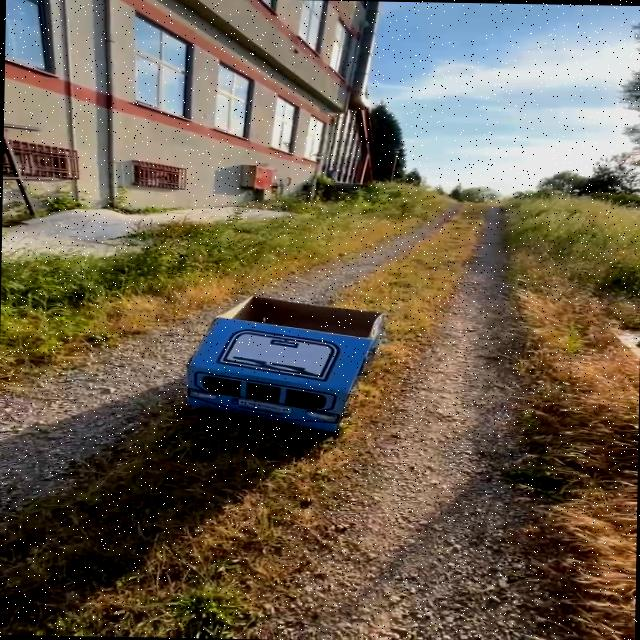blue_car: (120, 269, 426, 464)
